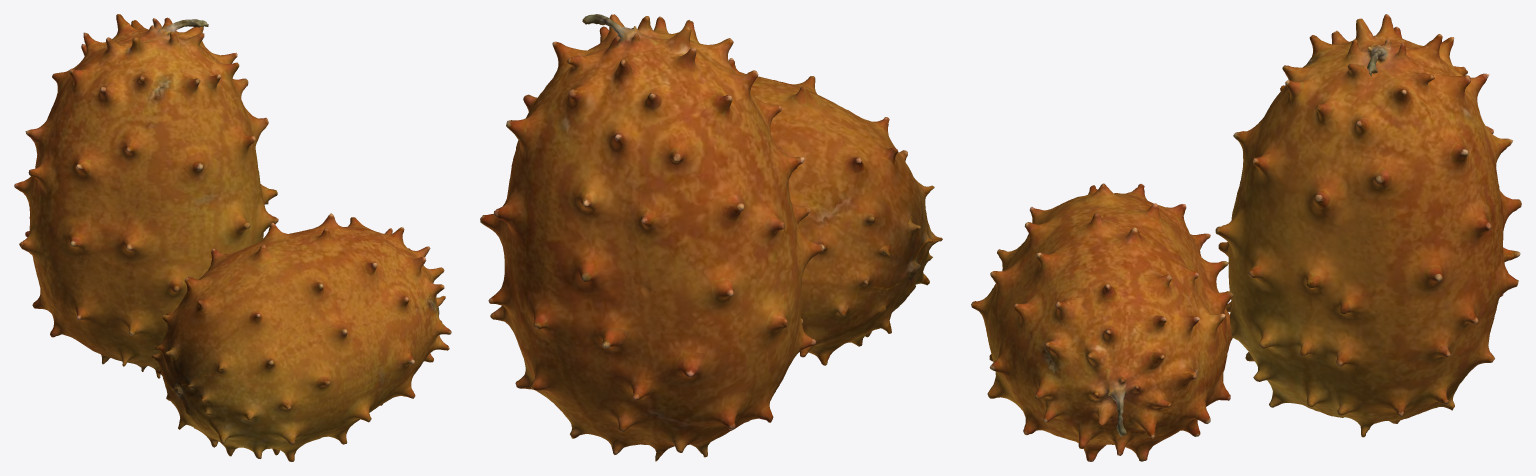
File: kiwano.glb
3 renders of one model, left to right at view 1: azimuth 30°, elevation 25°; view 2: azimuth 150°, elevation 25°; view 3: azimuth 270°, elevation 25°, orthographic. The views are drawn at different scales.
Visible parts, largest first — view 1: kiwano_rigsters, kiwano_rigsters.001; view 2: kiwano_rigsters, kiwano_rigsters.001; view 3: kiwano_rigsters, kiwano_rigsters.001.
Boxes of the visible parts, x1,y1,x2,y2 form: kiwano_rigsters: (14,14,278,378); kiwano_rigsters.001: (151,213,451,461); kiwano_rigsters: (480,14,824,461); kiwano_rigsters.001: (728,58,942,365); kiwano_rigsters: (1215,14,1521,437); kiwano_rigsters.001: (971,183,1233,461).
Bounding box in the file's own units: 0.0989 × 0.1071 × 0.1349.
Materials: 1 (1 with a texture image).
